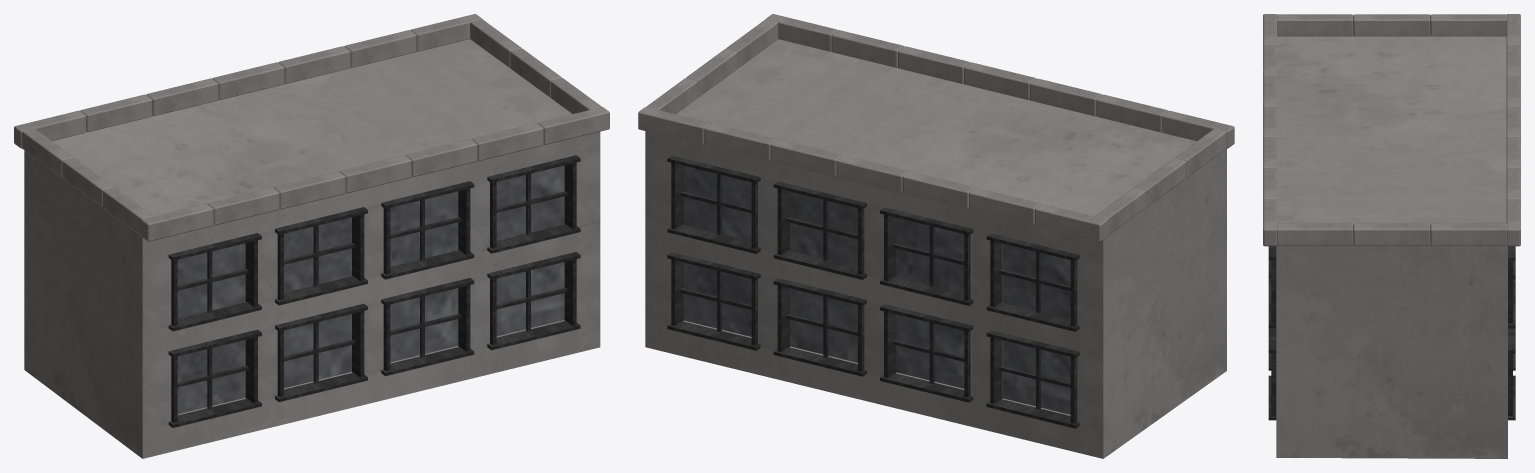
The model's file is School 1.fbx.
The picture shows the model from 3 angles, left to right: view 1: azimuth 30°, elevation 25°; view 2: azimuth 150°, elevation 25°; view 3: azimuth 270°, elevation 25°; orthographic projection. The views are drawn at different scales.
Parts seen in each view (by area): view 1: Cube.009; view 2: Cube.009; view 3: Cube.009.
Boxes of the visible parts, bbox=[...] form: Cube.009: bbox=[14, 14, 609, 458]; Cube.009: bbox=[638, 14, 1234, 458]; Cube.009: bbox=[1263, 14, 1520, 458].
Size of the model in its own units: 10829 by 5370 by 5462.
